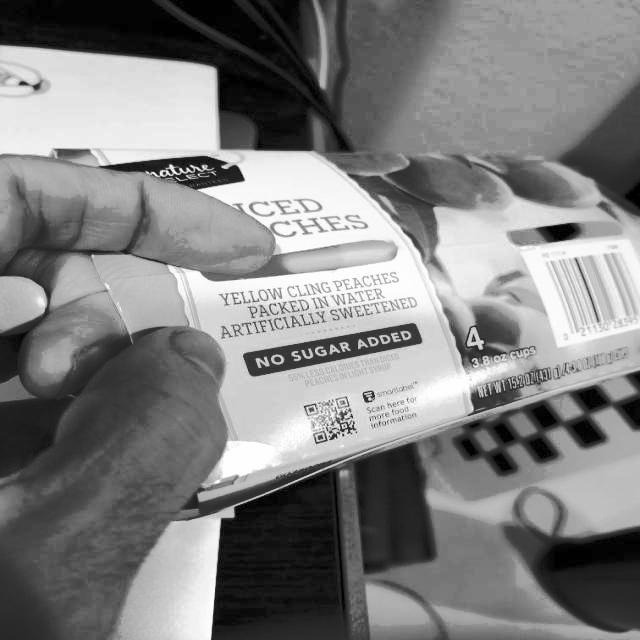qr_code: (293, 385, 378, 449)
